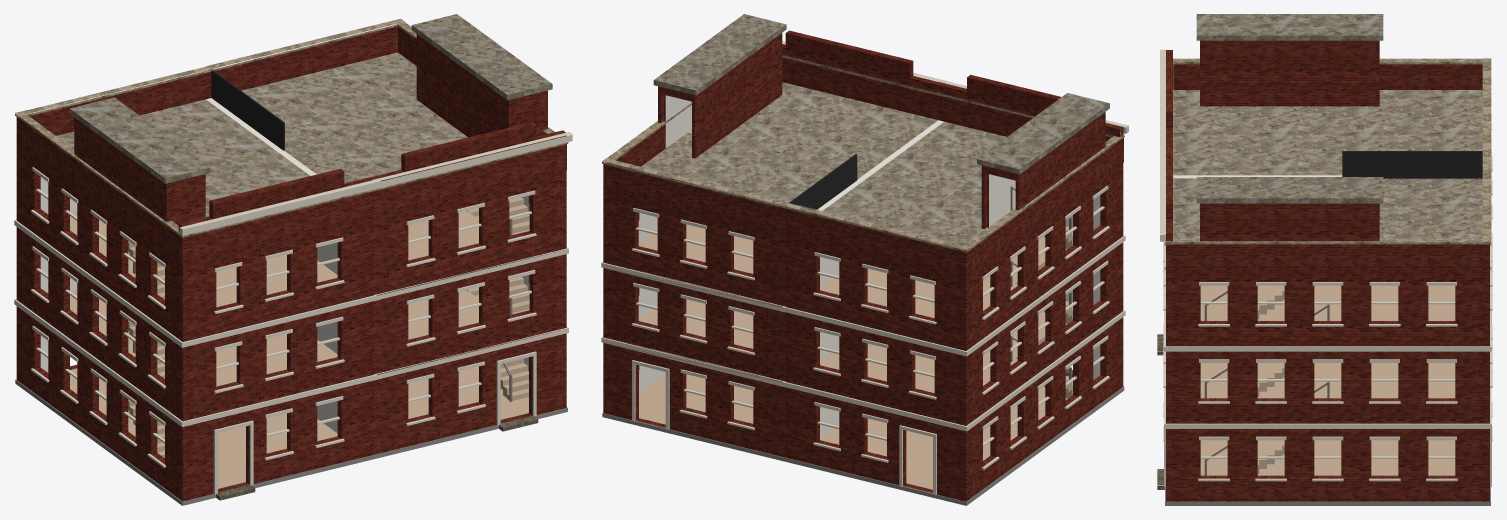
File: mh-dutch-duplex.towns-v2.lod0.glb
3 renders of one model, left to right at view 1: azimuth 30°, elevation 25°; view 2: azimuth 150°, elevation 25°; view 3: azimuth 270°, elevation 25°, orthographic. The views are drawn at different scales.
Parts seen in each view (by area): view 1: mh-dutch-duplex; view 2: mh-dutch-duplex; view 3: mh-dutch-duplex.
Boxes of the visible parts, x1,y1,x2,y2 form: mh-dutch-duplex: (14, 14, 572, 505); mh-dutch-duplex: (601, 14, 1128, 505); mh-dutch-duplex: (1157, 14, 1492, 505).
Size of the model in its own units: 15.44 by 11.97 by 11.79.
Materials: 5 (2 with a texture image).
